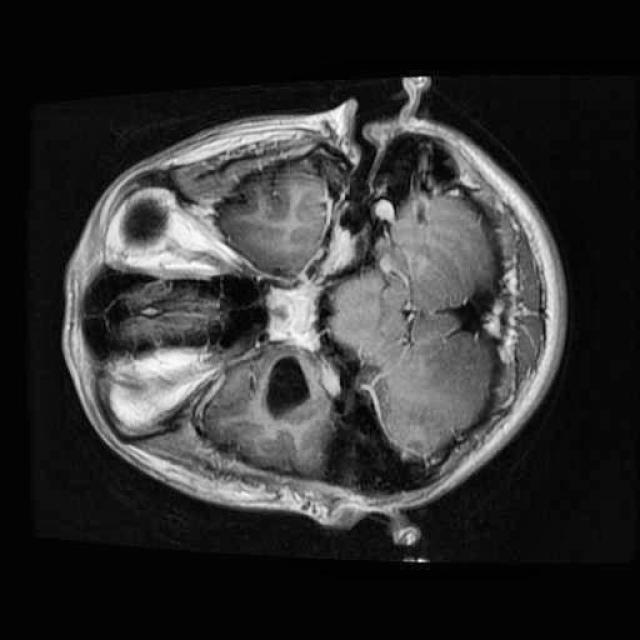Tumor: (256, 339, 322, 429)
